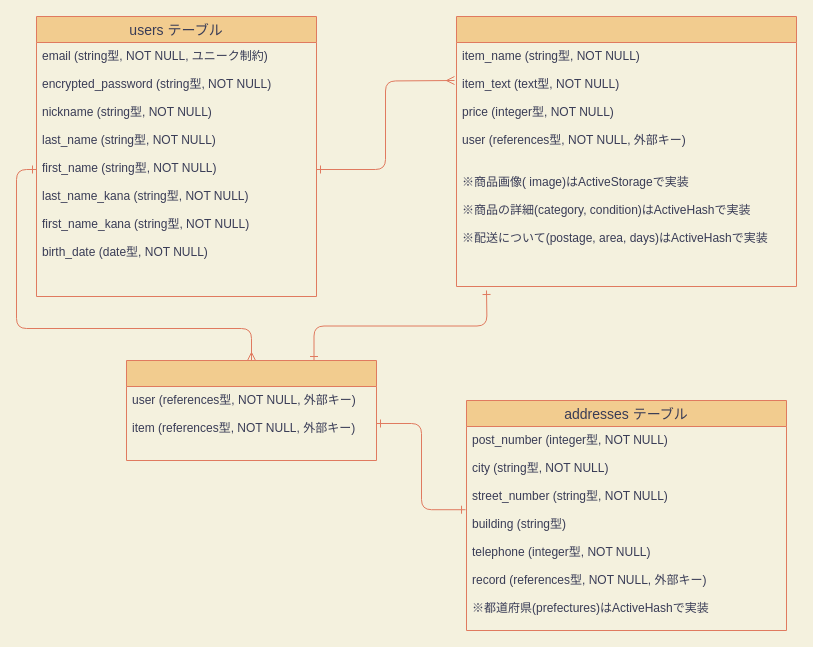
This 813x647 diagram has some shape labels left out. Here are the shapes that lost their labels. From the top down, the box of each, then its label:
(456, 16, 796, 286): items テーブル
(126, 360, 376, 460): records テーブル
